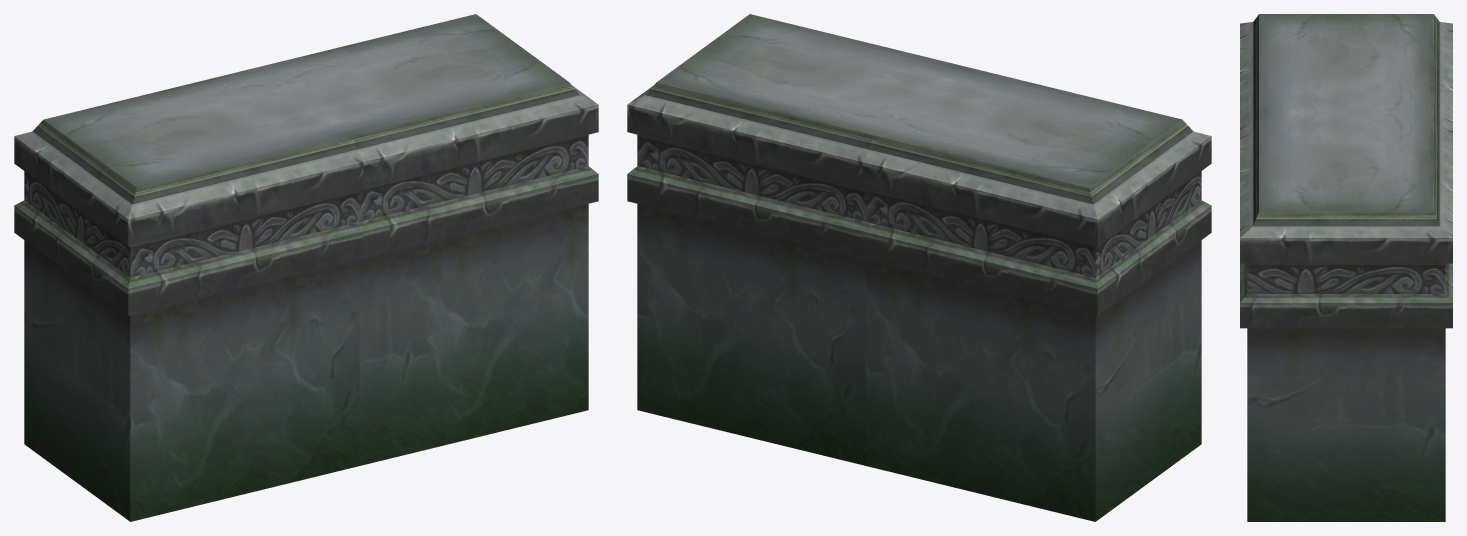
The model's file is shilianzhidi1_dizuo_001.FBX.
The picture shows the model from 3 angles, left to right: view 1: azimuth 30°, elevation 25°; view 2: azimuth 150°, elevation 25°; view 3: azimuth 270°, elevation 25°; orthographic projection. The views are drawn at different scales.
Parts seen in each view (by area): view 1: shilianzhidi1_dizuo; view 2: shilianzhidi1_dizuo; view 3: shilianzhidi1_dizuo.
Part boxes in pixels (<box>): shilianzhidi1_dizuo: <box>14,14,598,521</box>; shilianzhidi1_dizuo: <box>627,14,1211,521</box>; shilianzhidi1_dizuo: <box>1240,14,1452,521</box>.
Bounding box in the file's own units: 3389 × 1421 × 2246.
Materials: 1 (1 with a texture image).
